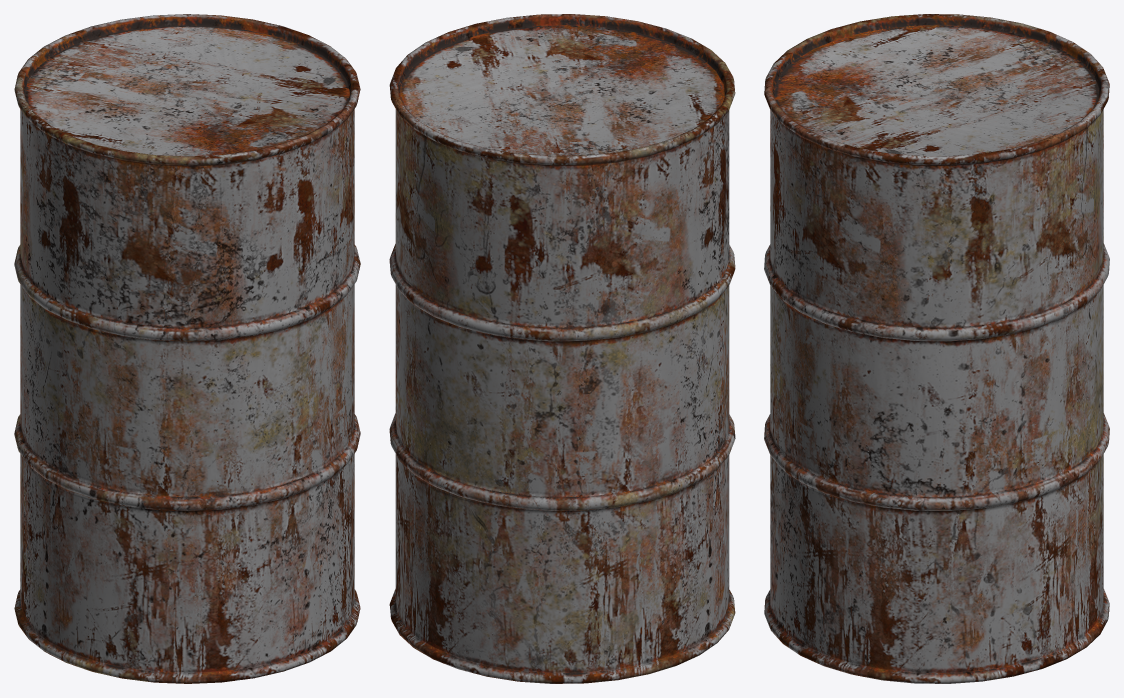
The model's file is Barrel_3.glb.
3 views of the same model, side by side, from view 1: azimuth 30°, elevation 25°; view 2: azimuth 150°, elevation 25°; view 3: azimuth 270°, elevation 25° (orthographic).
Parts seen in each view (by area): view 1: Barrel1_low.001_Metal_0; view 2: Barrel1_low.001_Metal_0; view 3: Barrel1_low.001_Metal_0.
Part boxes in pixels (bbox=[...]): Barrel1_low.001_Metal_0: bbox=[14, 14, 360, 683]; Barrel1_low.001_Metal_0: bbox=[389, 14, 735, 683]; Barrel1_low.001_Metal_0: bbox=[764, 14, 1109, 683].
Bounding box in the file's own units: 0.411 × 0.6896 × 0.411.
1 material, 1 textured.
